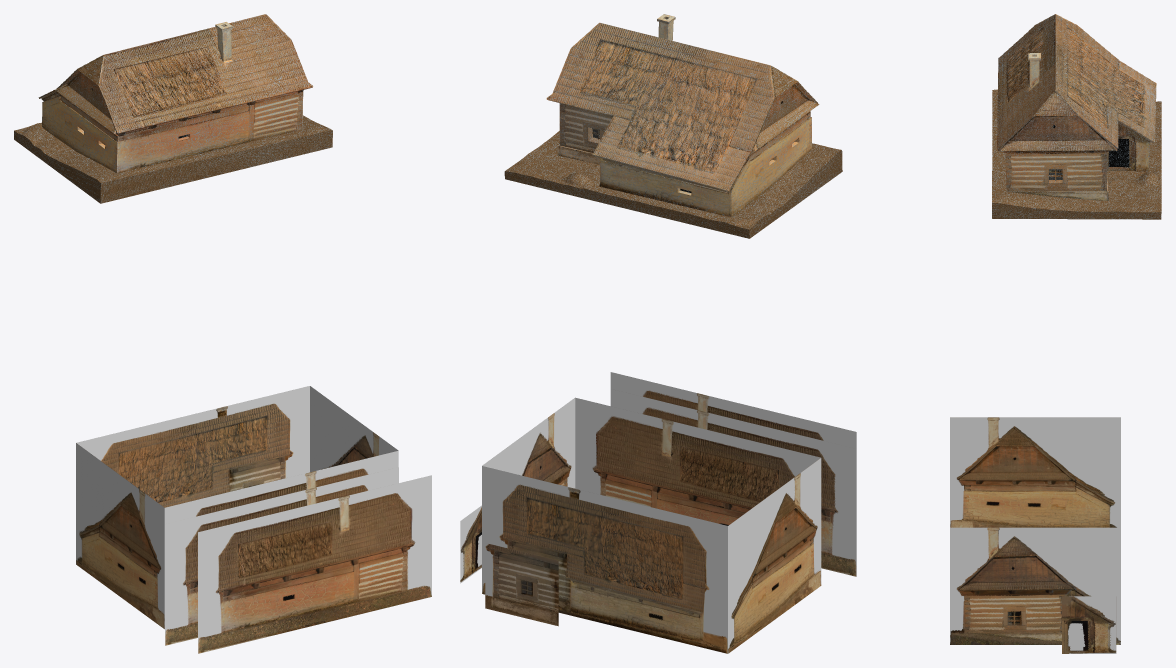
The model's file is hlinsko.dae.
3 renders of one model, left to right at view 1: azimuth 30°, elevation 25°; view 2: azimuth 150°, elevation 25°; view 3: azimuth 270°, elevation 25°, orthographic. The views are drawn at different scales.
Visible parts, largest first — view 1: group_14, SketchUp (×4), group_3, group_5, group_0, group_7, group_10, group_2, group_4; view 2: group_3, SketchUp (×6), group_2, group_11, group_5, group_0, group_7, group_13, group_4, group_14, group_12; view 3: group_5, group_4, SketchUp (×6), group_0, group_11, group_12, group_10.
Part boxes in pixels (<box>): group_14: <box>198,475,431,653</box>; SketchUp (×4): <box>41,14,310,173</box>; group_3: <box>76,386,309,507</box>; group_5: <box>76,443,164,628</box>; group_0: <box>14,115,332,203</box>; group_7: <box>165,467,398,645</box>; group_10: <box>114,47,226,116</box>; group_2: <box>164,450,398,628</box>; group_4: <box>310,386,398,472</box>; group_3: <box>482,466,727,653</box>; SketchUp (×6): <box>550,22,819,217</box>; group_2: <box>575,397,820,525</box>; group_11: <box>580,39,756,171</box>; group_5: <box>728,458,821,653</box>; group_0: <box>504,131,842,238</box>; group_7: <box>610,389,856,576</box>; group_13: <box>485,543,558,626</box>; group_4: <box>482,398,575,488</box>; group_14: <box>610,372,856,448</box>; group_12: <box>460,505,481,583</box>; group_5: <box>950,417,1120,527</box>; group_4: <box>950,527,1120,644</box>; SketchUp (×6): <box>997,14,1156,200</box>; group_0: <box>992,89,1161,219</box>; group_11: <box>1067,28,1143,127</box>; group_12: <box>1062,596,1116,653</box>; group_10: <box>1006,27,1043,102</box>.
Bounding box in the file's own units: 20.36 × 16.85 × 35.54.
Materials: 13 (10 with a texture image).
